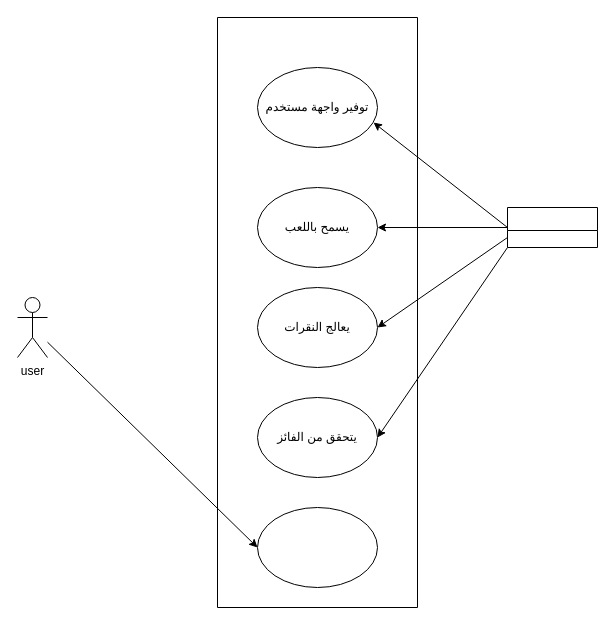
The diagram is 615 pixels wide and 625 high, and some of its shapes have lost their labels. The shapes that lost their labels are listed below. From the top down, each one's centre as x and y in pixels, then its label:
At (x=552, y=227): "النظام".
At (x=317, y=547): "يقوم بالنقر".
